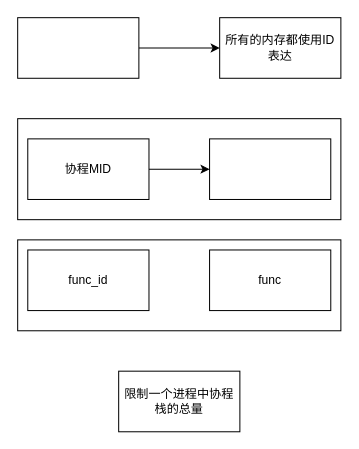
The diagram is 359 pixels wide and 449 high, and some of its shapes have lost their labels. Here are the shapes that lost their labels. From the top down, the centre of each, then its label:
At pixel 78 47: "封装".
At pixel 270 168: "协程栈".
